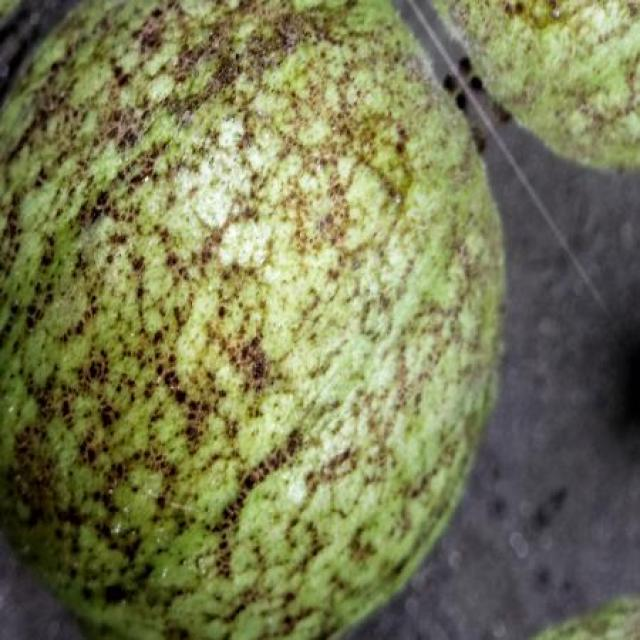Scab: (0, 1, 501, 639)
